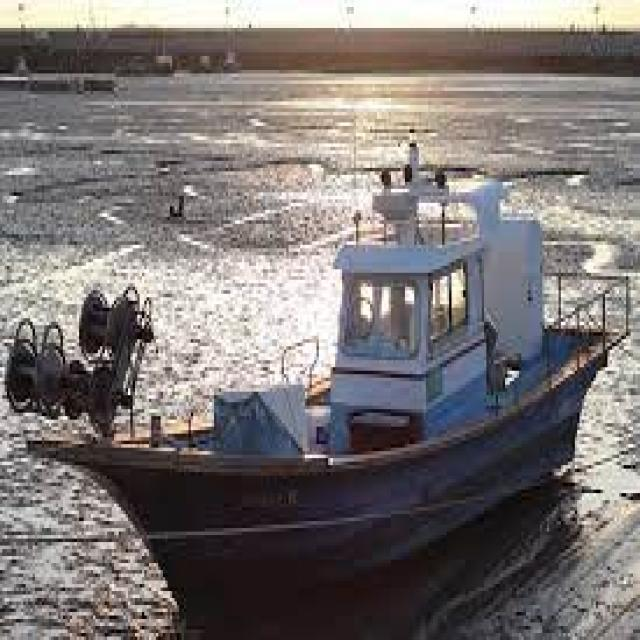Ship: (17, 127, 625, 640)
